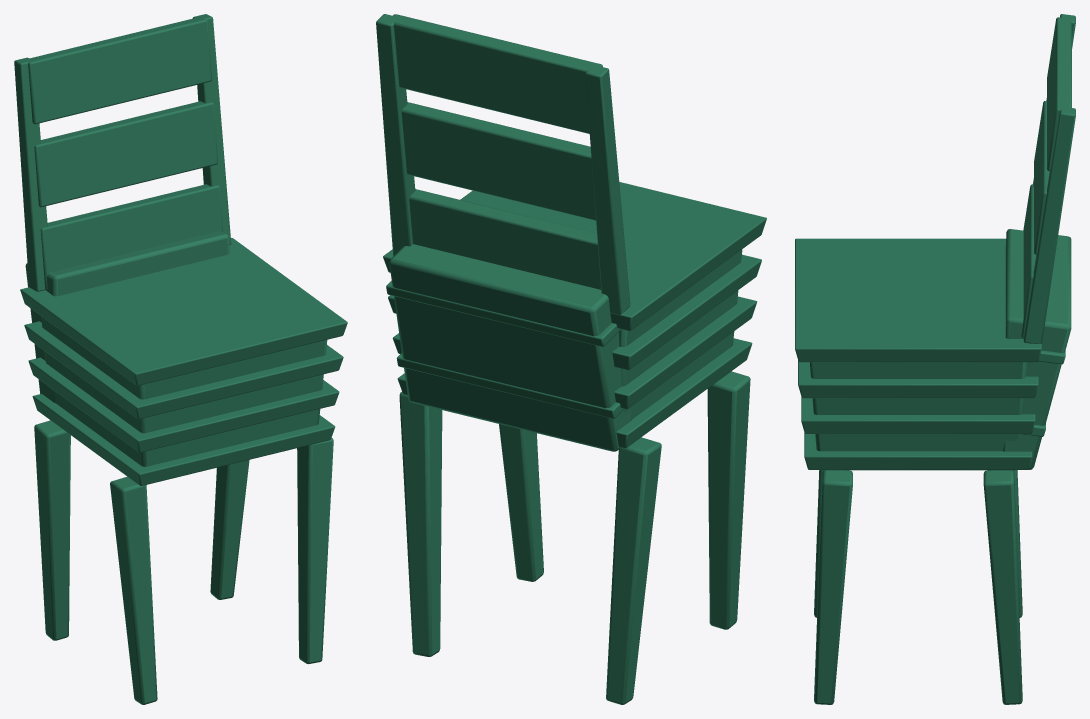
The model's file is SM_PlasticChairStack_4.glb.
The picture shows the model from 3 angles, left to right: view 1: azimuth 30°, elevation 25°; view 2: azimuth 150°, elevation 25°; view 3: azimuth 270°, elevation 25°; orthographic projection. The views are drawn at different scales.
Visible parts, largest first — view 1: SM_PlasticChairStack_4; view 2: SM_PlasticChairStack_4; view 3: SM_PlasticChairStack_4.
Part boxes in pixels (x1,y1,x2,y2): SM_PlasticChairStack_4: (14,14,347,704); SM_PlasticChairStack_4: (376,14,766,704); SM_PlasticChairStack_4: (795,14,1075,704).
Size of the model in its own units: 0.3931 by 0.9896 by 0.4226.
